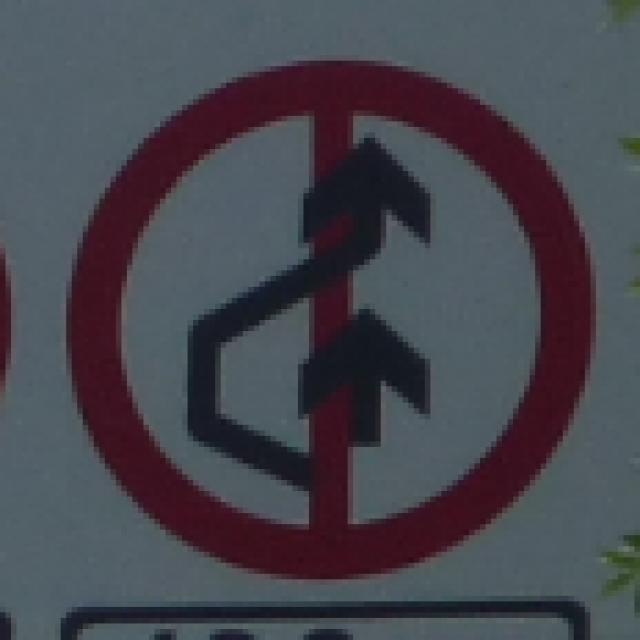Not that Direction: (71, 52, 598, 572)
